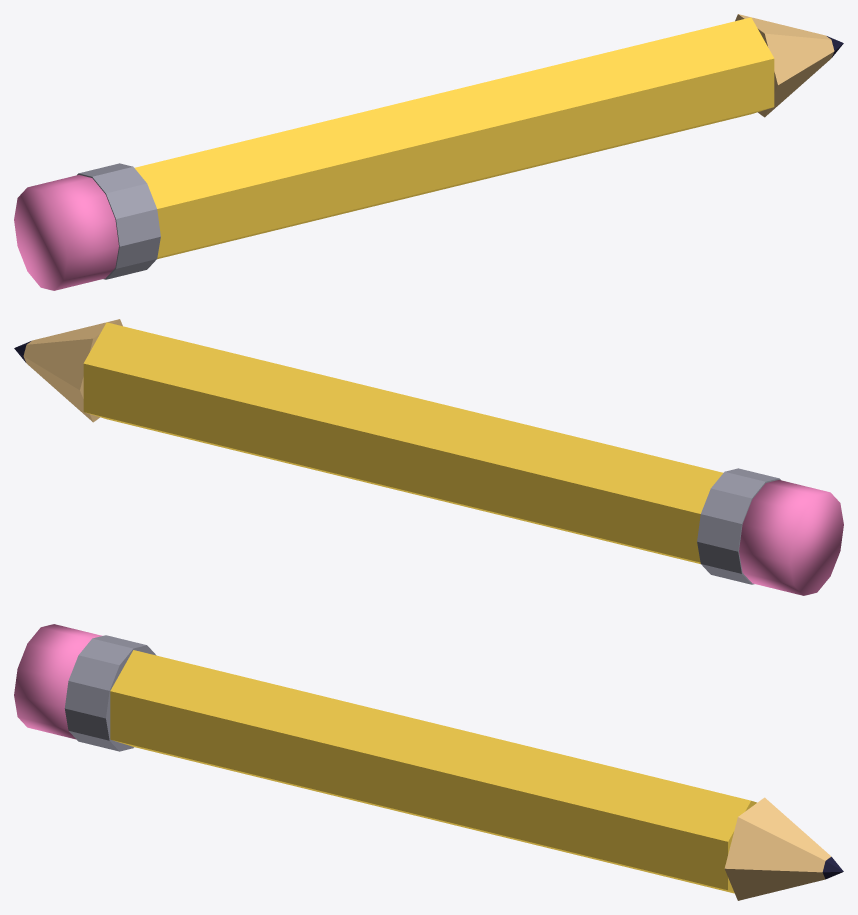
The model's file is Prop_Playroom_Pencil.fbx.
3 renders of one model, top to bottom at view 1: azimuth 30°, elevation 25°; view 2: azimuth 150°, elevation 25°; view 3: azimuth 330°, elevation 25°, orthographic.
Parts seen in each view (by area): view 1: Prop_Playroom_Pencil; view 2: Prop_Playroom_Pencil; view 3: Prop_Playroom_Pencil.
Boxes of the visible parts, x1=… form: Prop_Playroom_Pencil: x1=14, y1=14, x2=843, y2=290; Prop_Playroom_Pencil: x1=14, y1=319, x2=843, y2=595; Prop_Playroom_Pencil: x1=14, y1=624, x2=843, y2=900.
Size of the model in its own units: 3.12 by 0.37 by 0.37.
